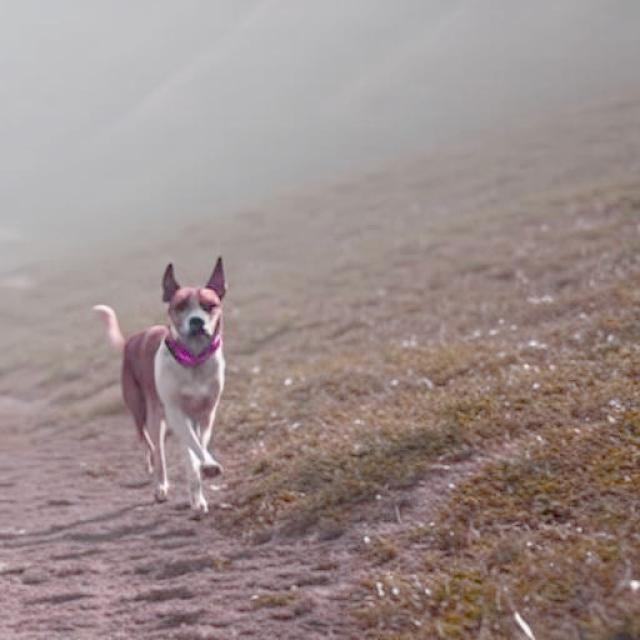Dog: (90, 254, 228, 514)
